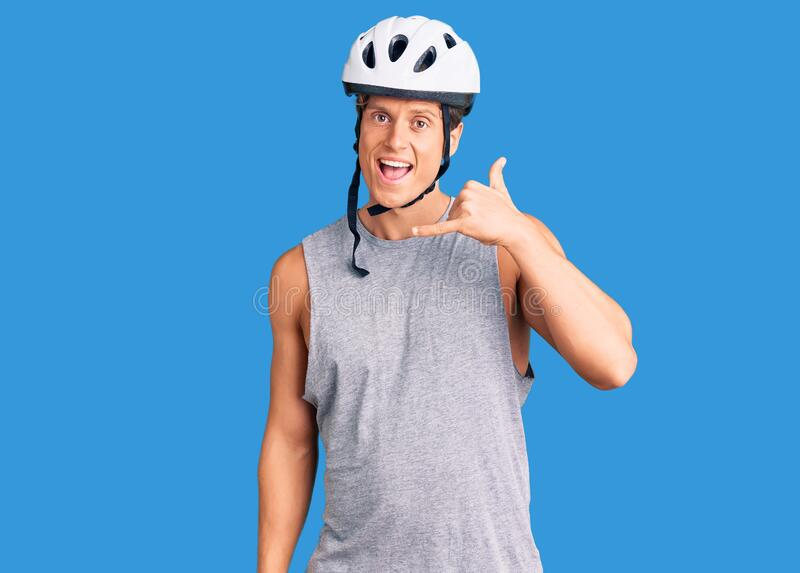helmet: (342, 15, 481, 207)
